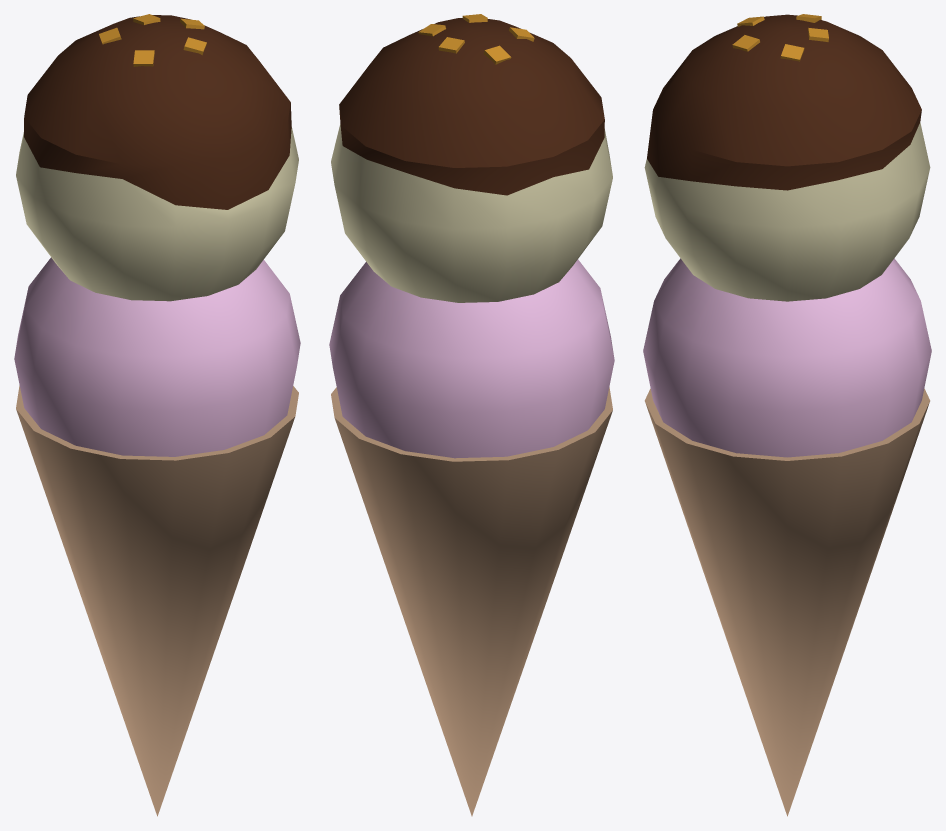
Rendered from icecream-cone.glb.
The picture shows the model from 3 angles, left to right: view 1: azimuth 30°, elevation 25°; view 2: azimuth 150°, elevation 25°; view 3: azimuth 270°, elevation 25°; orthographic projection.
Visible parts, largest first — view 1: icecream; view 2: icecream; view 3: icecream.
Boxes of the visible parts, box(x1,y1,x2,y2) form: icecream: box(14, 14, 300, 816); icecream: box(329, 14, 614, 816); icecream: box(643, 14, 931, 816).
Size of the model in its own units: 0.0764 by 0.2301 by 0.0764.
